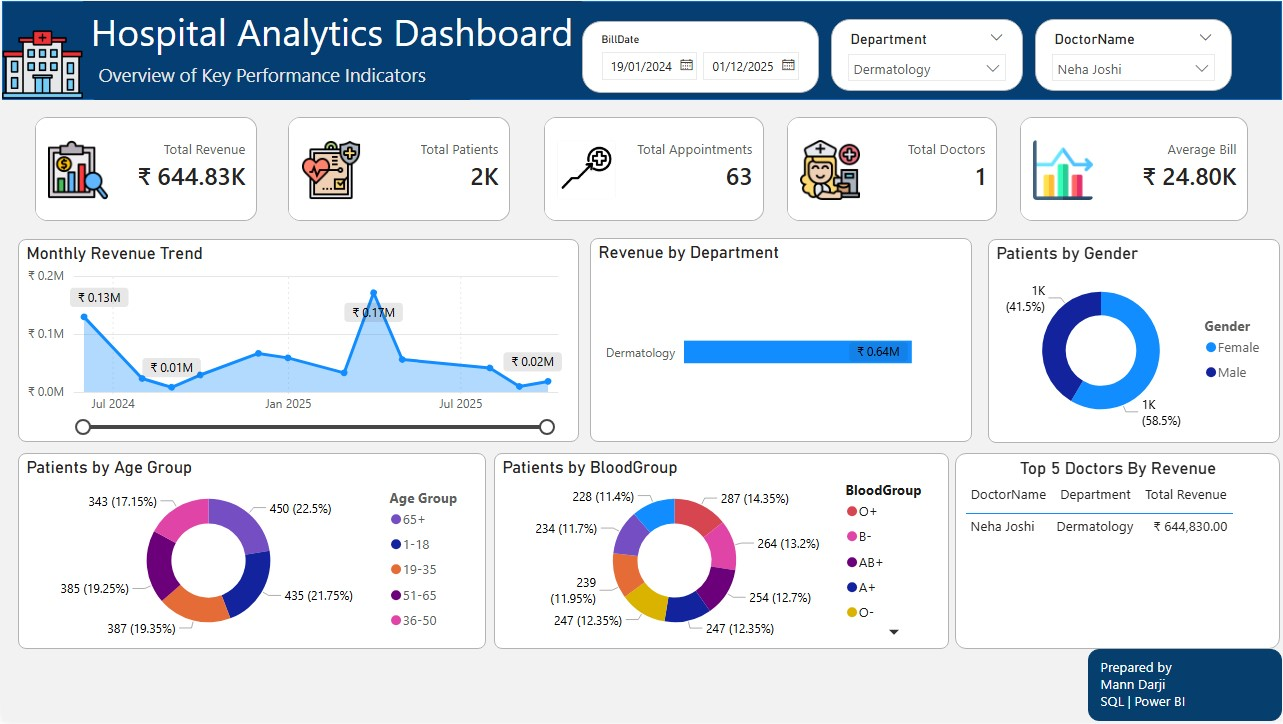

This screenshot's page, from the dashboard's own definition file:
{"tool":"powerbi","page":{"name":"Page 1","canvas":[1280,720],"ordinal":0},"visuals":[{"type":"cardVisual","fields":{"Data":["Billing.Total Revenue"]},"box":[16,99,256,138],"z":0},{"type":"shape","box":[0,0,1280,99],"z":1000},{"type":"textbox","box":[81,0,499,64],"z":2000},{"type":"image","box":[0,14,81,99],"z":3000},{"type":"textbox","box":[92,56,376,43],"z":4000},{"type":"cardVisual","fields":{"Data":["Patients.Total Patients"]},"box":[269,99,256,138],"z":5000},{"type":"cardVisual","fields":{"Data":["Appointments.Total Appointments"]},"box":[525,99,254,138],"z":6000},{"type":"cardVisual","fields":{"Data":["Doctors.Total Doctors"]},"box":[768,99,244,138],"z":7000},{"type":"cardVisual","fields":{"Data":["Billing.Average Bill"]},"box":[1001,99,262,138],"z":8000},{"type":"lineChart","title":"Monthly Revenue Trend","fields":{"Category":["Billing.Year Month"],"Y":["Billing.Total Revenue"]},"box":[16,238,561,203],"z":9000},{"type":"clusteredBarChart","title":"Revenue by Department","fields":{"Y":["Billing.Total Revenue"],"Category":["Doctors.Department"]},"box":[588,237,382,204],"z":10000},{"type":"donutChart","title":"Patients by Gender","fields":{"Category":["Patients.Gender"],"Y":["Patients.Total Patients"]},"box":[986,238,292,204],"z":11000},{"type":"donutChart","title":"Patients by Age Group","fields":{"Y":["Patients.Total Patients"],"Category":["Patients.Age Group"]},"box":[16,452,468,196],"z":12000},{"type":"donutChart","title":"Patients by BloodGroup","fields":{"Category":["Patients.BloodGroup"],"Y":["Patients.Total Patients"]},"box":[492,452,455,196],"z":14000},{"type":"slicer","fields":{"Values":["Billing.BillDate"]},"box":[580,20,237,72],"z":15000},{"type":"slicer","fields":{"Values":["Doctors.Department"]},"box":[829,18,192,72],"z":16000},{"type":"slicer","fields":{"Values":["Doctors.DoctorName"]},"box":[1033,18,197,72],"z":17000},{"type":"tableEx","title":"Top 5 Doctors By Revenue","fields":{"Values":["Doctors.DoctorName","Doctors.Department","Billing.Total Revenue"]},"box":[953,452,325,196],"z":17001},{"type":"shape","box":[1086,648,194,72],"z":17002},{"type":"textbox","box":[1094,652,111,68],"z":17003}]}

Visuals, with their boxes in screenshot pixels (x1, y1, x2, y2), scaled from the page's 1280x720 canvas onto the 1283x724 screenshot:
cardVisual - Billing.Total Revenue: 16 100 273 238
shape: 0 0 1282 100
textbox: 81 0 581 64
image: 0 14 81 114
textbox: 92 56 469 100
cardVisual - Patients.Total Patients: 270 100 526 238
cardVisual - Appointments.Total Appointments: 526 100 781 238
cardVisual - Doctors.Total Doctors: 770 100 1014 238
cardVisual - Billing.Average Bill: 1003 100 1266 238
"Monthly Revenue Trend" lineChart: 16 239 578 443
"Revenue by Department" clusteredBarChart: 589 238 972 443
"Patients by Gender" donutChart: 988 239 1281 444
"Patients by Age Group" donutChart: 16 455 485 652
"Patients by BloodGroup" donutChart: 493 455 949 652
slicer - Billing.BillDate: 581 20 819 93
slicer - Doctors.Department: 831 18 1023 90
slicer - Doctors.DoctorName: 1035 18 1233 90
"Top 5 Doctors By Revenue" tableEx: 955 455 1281 652
shape: 1089 652 1282 723
textbox: 1097 656 1208 723
